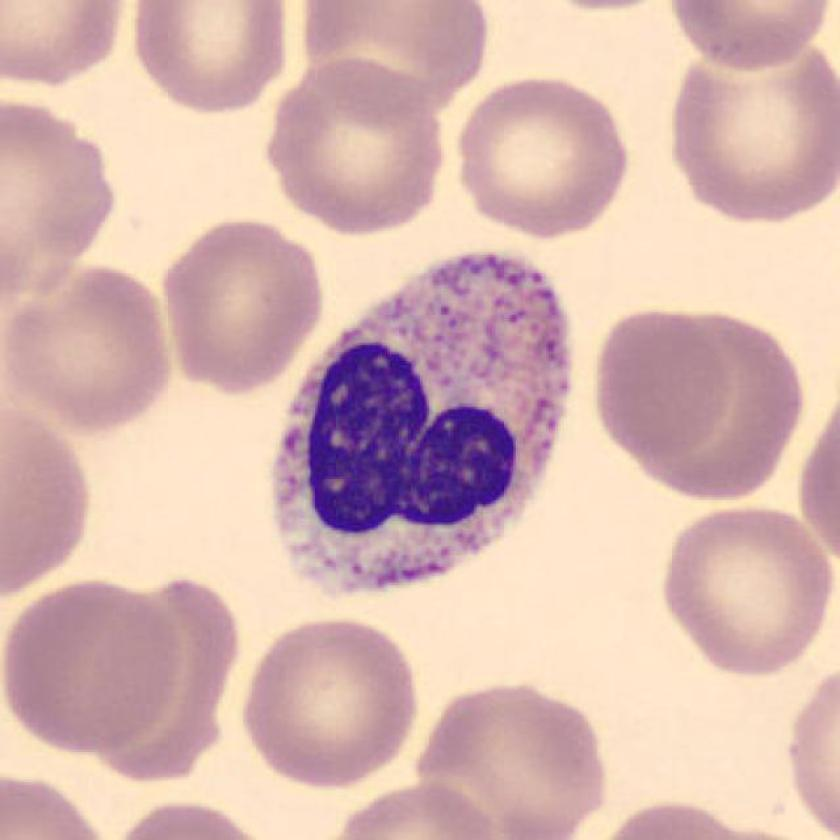neutrophil: (273, 249, 575, 596)
